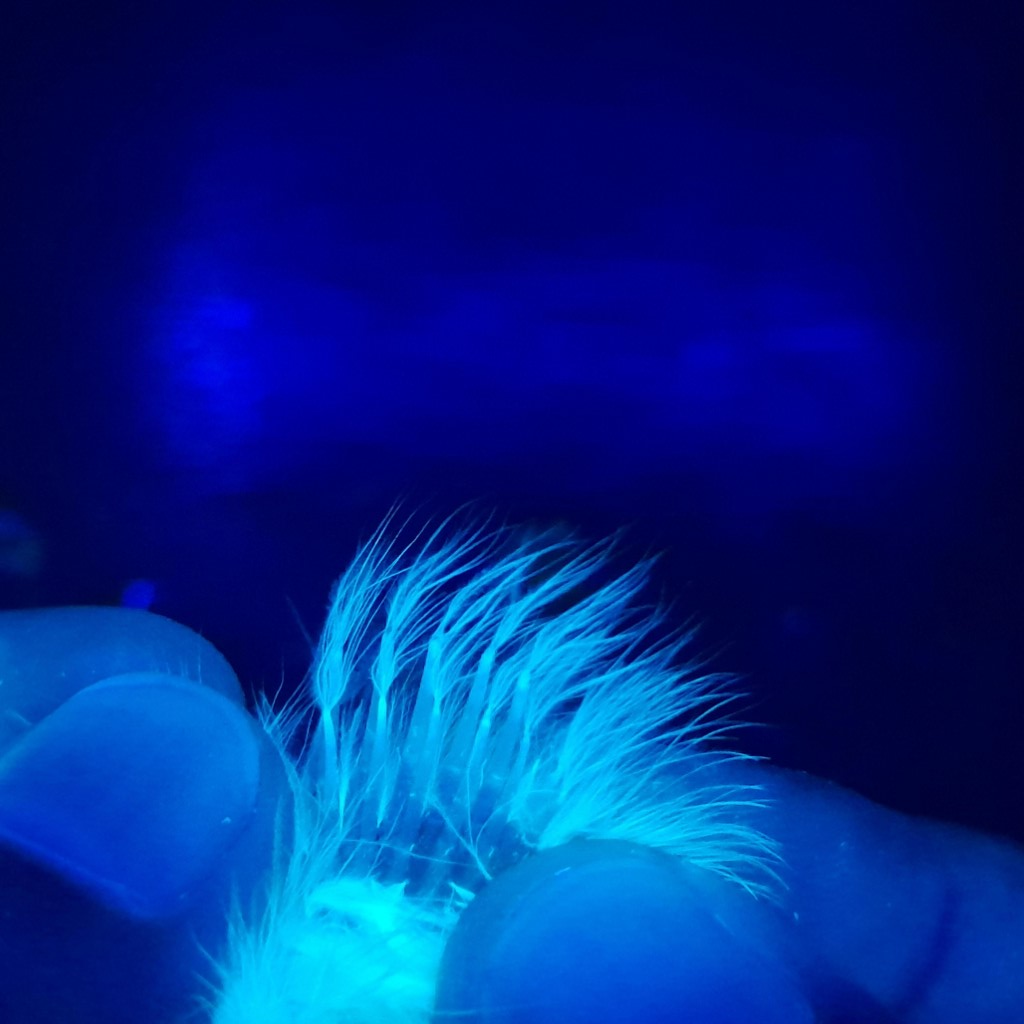female: (294, 616, 570, 900)
